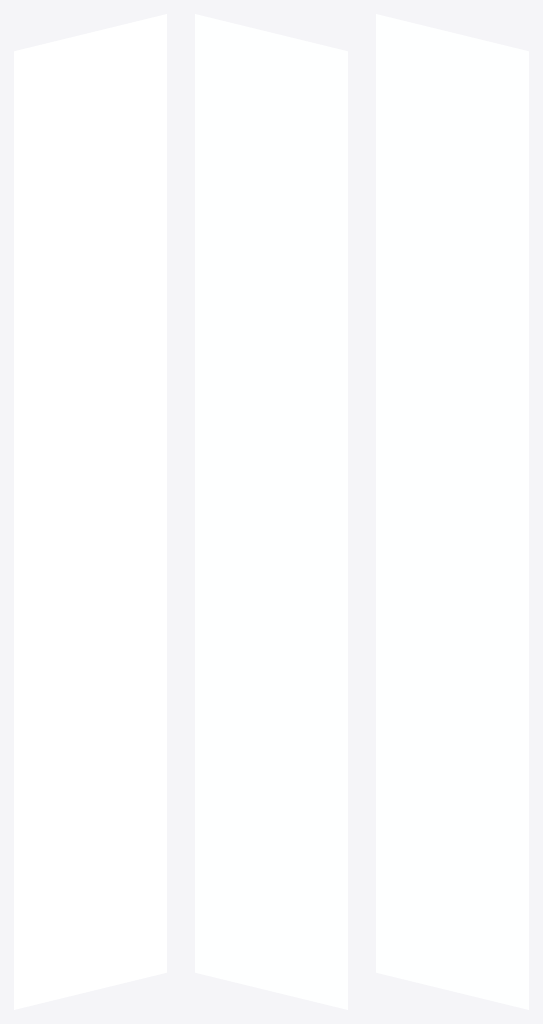
File: 休闲农业三星以上.gltf
The picture shows the model from 3 angles, left to right: view 1: azimuth 30°, elevation 25°; view 2: azimuth 150°, elevation 25°; view 3: azimuth 330°, elevation 25°; orthographic projection.
Parts seen in each view (by area): view 1: 中; view 2: 中; view 3: 中.
Boxes of the visible parts, <box> form: 中: <box>14,14,166,1009</box>; 中: <box>195,14,347,1009</box>; 中: <box>376,14,528,1009</box>.
Size of what is drawn, in the model's own units: 20 by 120 by 0.
Materials: 1 (1 with a texture image).
